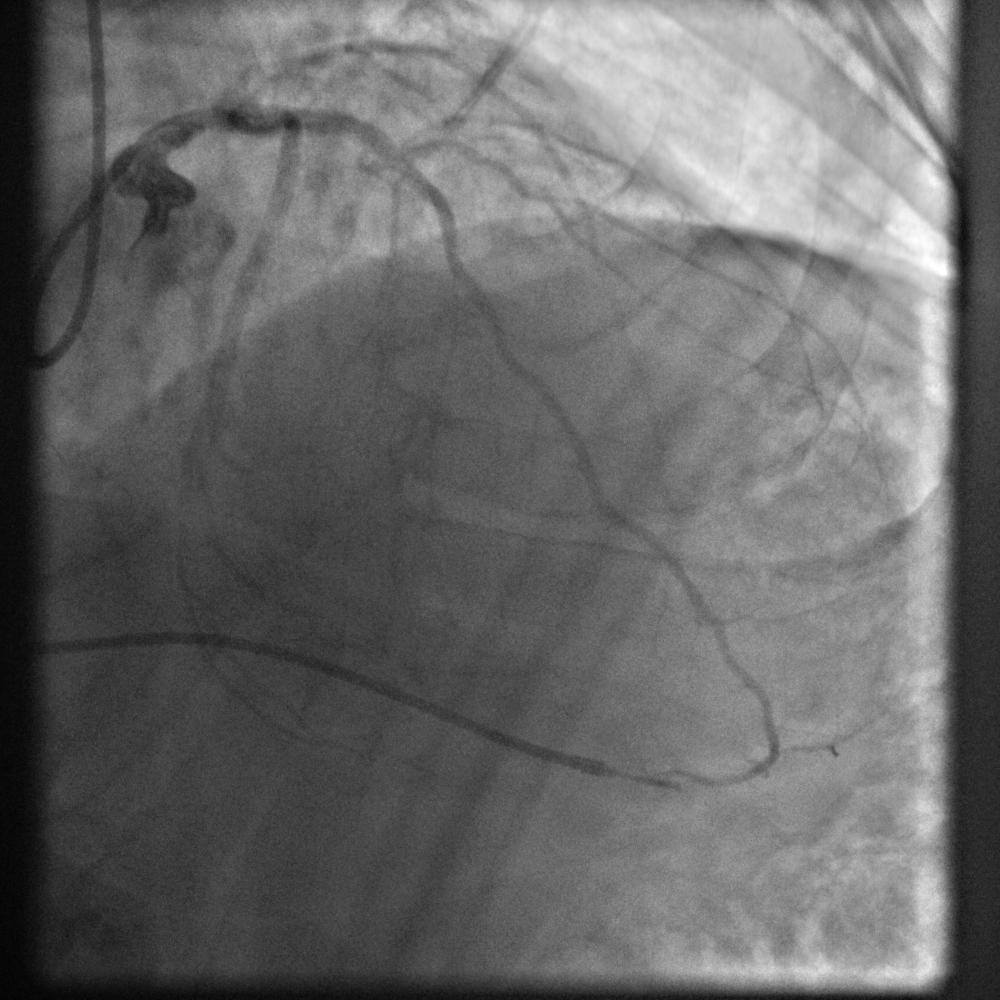Stenosis: (376, 133, 438, 185)
